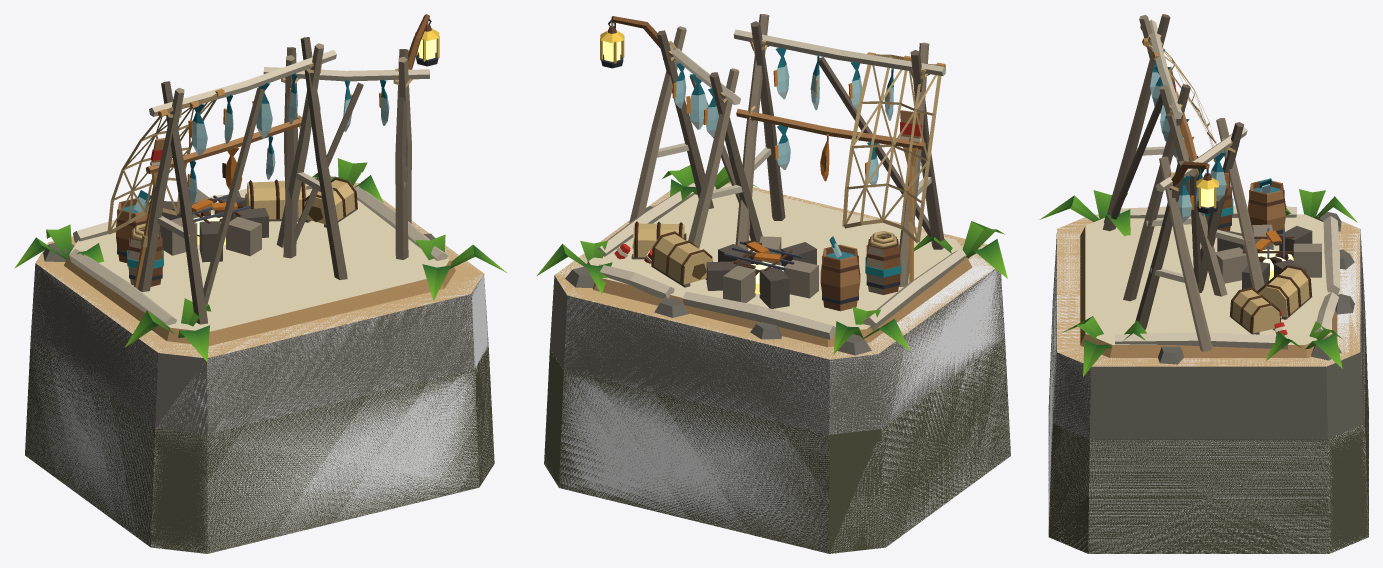
Rendered from coastal_salted_fish_drying_rack.glb.
The picture shows the model from 3 angles, left to right: view 1: azimuth 30°, elevation 25°; view 2: azimuth 150°, elevation 25°; view 3: azimuth 270°, elevation 25°; orthographic projection. The views are drawn at different scales.
Visible parts, largest first — view 1: CoastalSaltedFishDryingRack, col_fishrack_base; view 2: CoastalSaltedFishDryingRack, col_fishrack_base; view 3: CoastalSaltedFishDryingRack, col_fishrack_base.
Part boxes in pixels (x1,y1,x2,y2): CoastalSaltedFishDryingRack: (14, 14, 506, 553); col_fishrack_base: (25, 183, 494, 553); CoastalSaltedFishDryingRack: (536, 14, 1010, 553); col_fishrack_base: (544, 183, 1010, 553); CoastalSaltedFishDryingRack: (1039, 14, 1368, 553); col_fishrack_base: (1048, 215, 1368, 553).
Size of the model in its own units: 5.81 by 6.3 by 4.66.
